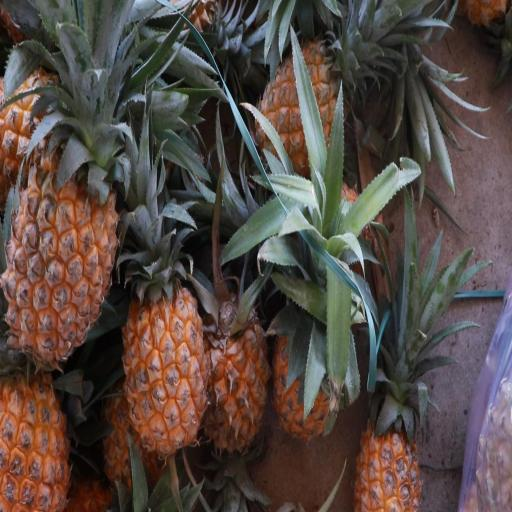Pineapple - v8 v1: (0, 114, 122, 371), (252, 28, 359, 202), (119, 274, 209, 457), (270, 277, 345, 453), (200, 282, 271, 467), (0, 366, 77, 512), (352, 374, 427, 512)
